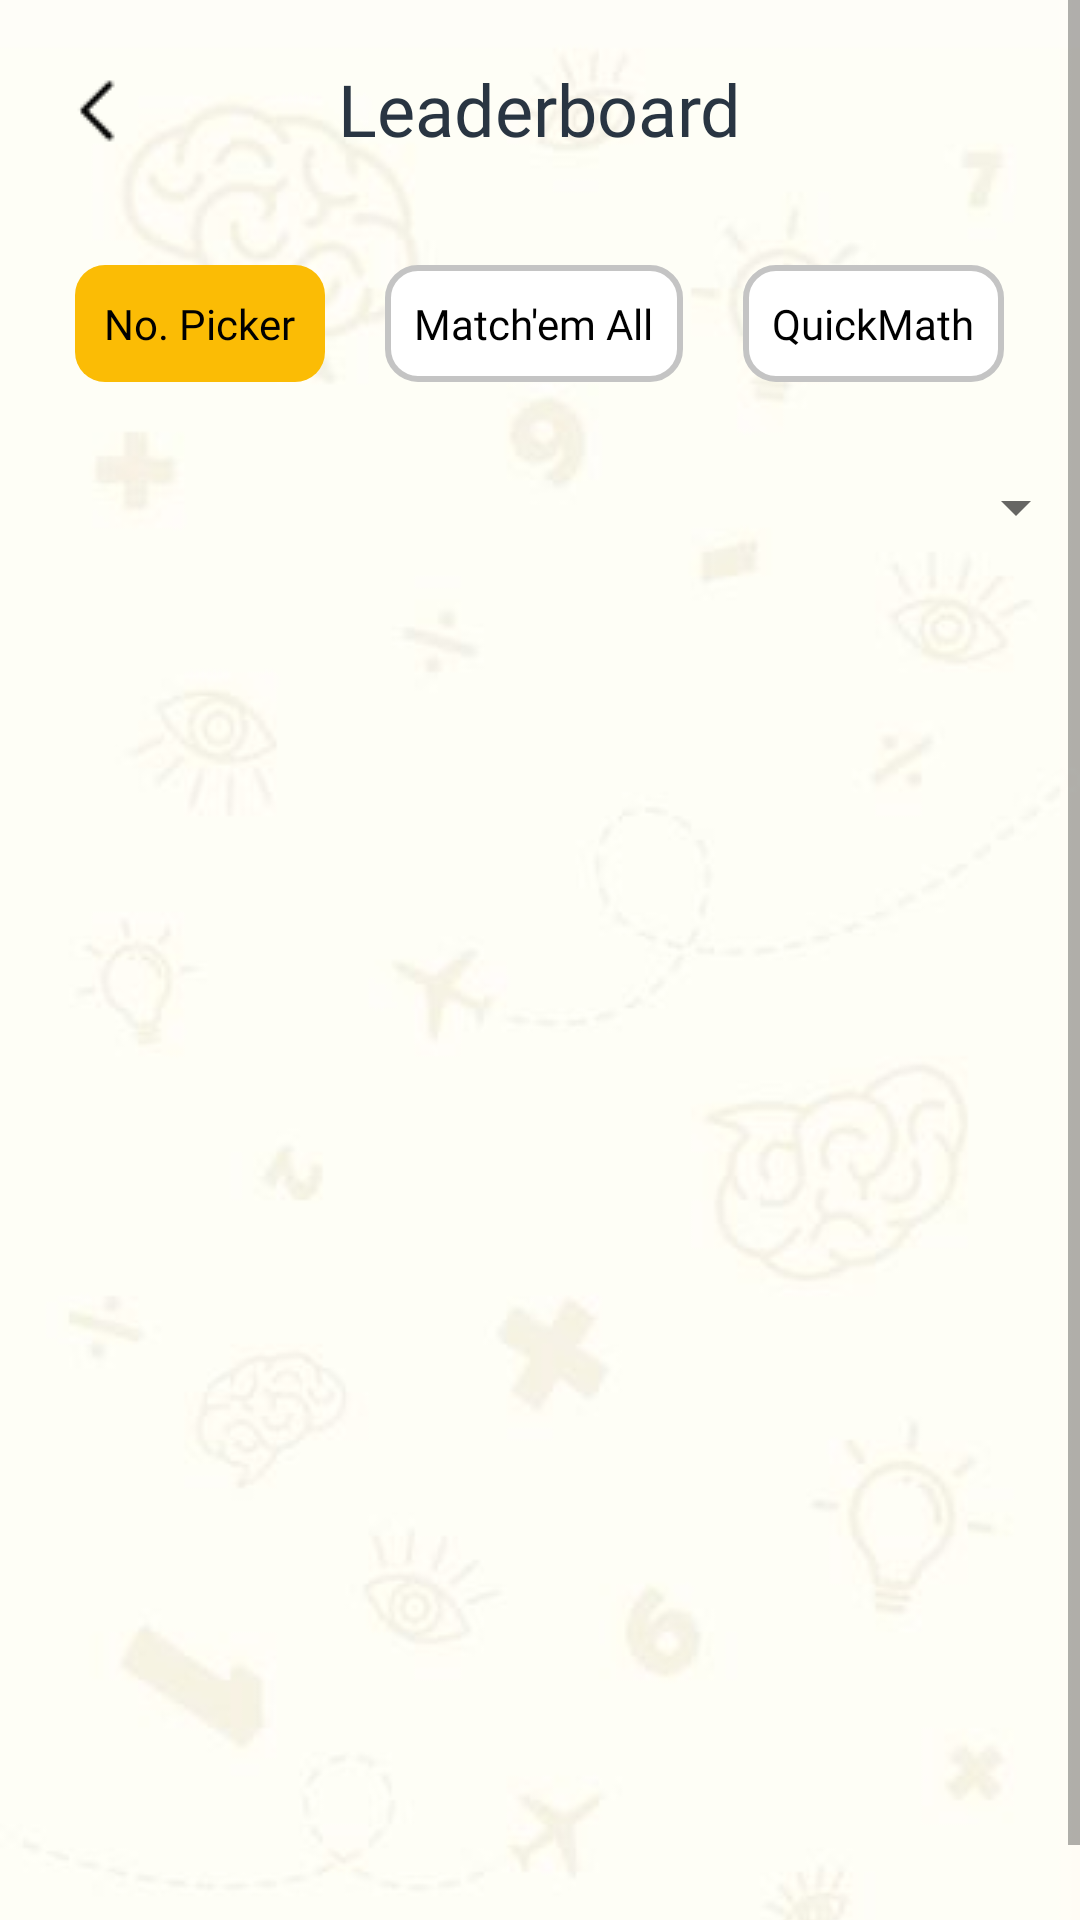

Named icons in this screenshot (1080w x 1920h) and their bounding boxes, (x1,y1,x2,y2):
back: (80,80,115,142)
